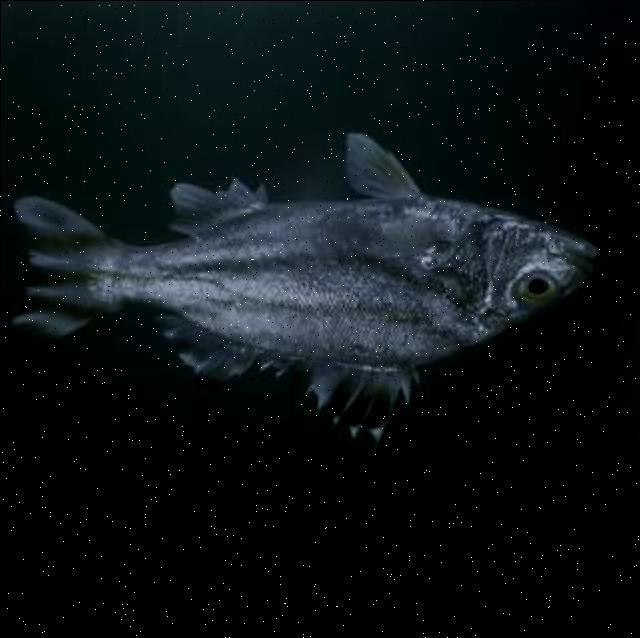Mulut: (550, 223, 612, 286)
Sirip Anal: (138, 161, 274, 254)
Sirip Dada: (351, 206, 462, 274)
Sirip Ekor: (0, 182, 114, 378)
Sirip Perut: (336, 122, 426, 210)
Sirip Punggung: (157, 300, 425, 450)
